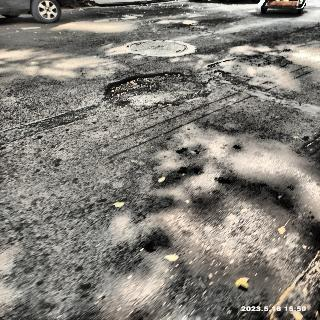alligator-crack: (185, 17, 238, 34)
pothole: (99, 71, 196, 101), (207, 59, 235, 69), (214, 69, 231, 77)
